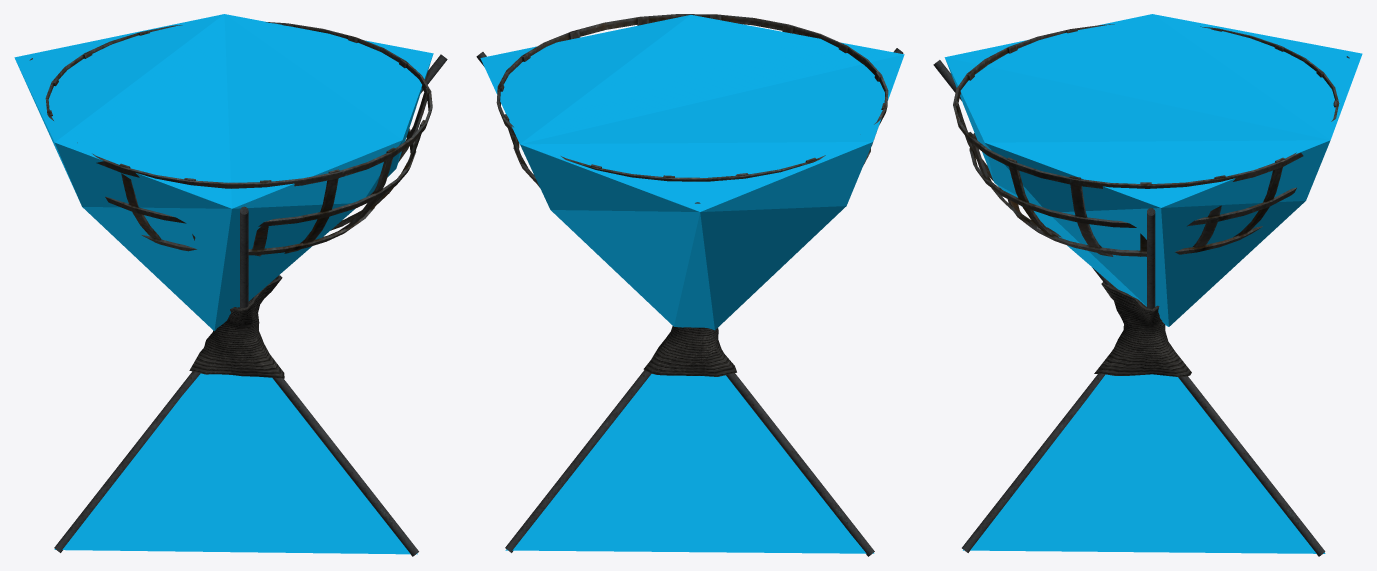
Rendered from JWC_Brazier_Kagaribi_A_03.fbx.
3 renders of one model, left to right at view 1: azimuth 30°, elevation 25°; view 2: azimuth 150°, elevation 25°; view 3: azimuth 270°, elevation 25°, orthographic.
Visible parts, largest first — view 1: C_JWC_Brazier_Kagaribi_A_03, C_JWC_Brazier_Kagaribi_A_03_001, JWC_Brazier_Kagaribi_A_03; view 2: C_JWC_Brazier_Kagaribi_A_03, C_JWC_Brazier_Kagaribi_A_03_001, JWC_Brazier_Kagaribi_A_03; view 3: C_JWC_Brazier_Kagaribi_A_03, C_JWC_Brazier_Kagaribi_A_03_001, JWC_Brazier_Kagaribi_A_03.
Part boxes in pixels (box(x1,y1,x2,y2)): C_JWC_Brazier_Kagaribi_A_03: box(14, 14, 433, 331); C_JWC_Brazier_Kagaribi_A_03_001: box(54, 373, 417, 554); JWC_Brazier_Kagaribi_A_03: box(29, 22, 447, 556); C_JWC_Brazier_Kagaribi_A_03: box(480, 15, 904, 330); C_JWC_Brazier_Kagaribi_A_03_001: box(505, 374, 874, 553); JWC_Brazier_Kagaribi_A_03: box(476, 14, 903, 556); C_JWC_Brazier_Kagaribi_A_03: box(944, 14, 1362, 326); C_JWC_Brazier_Kagaribi_A_03_001: box(963, 374, 1325, 553); JWC_Brazier_Kagaribi_A_03: box(933, 24, 1349, 556).
Bounding box in the file's own units: 1.33 × 1.33 × 1.26.
